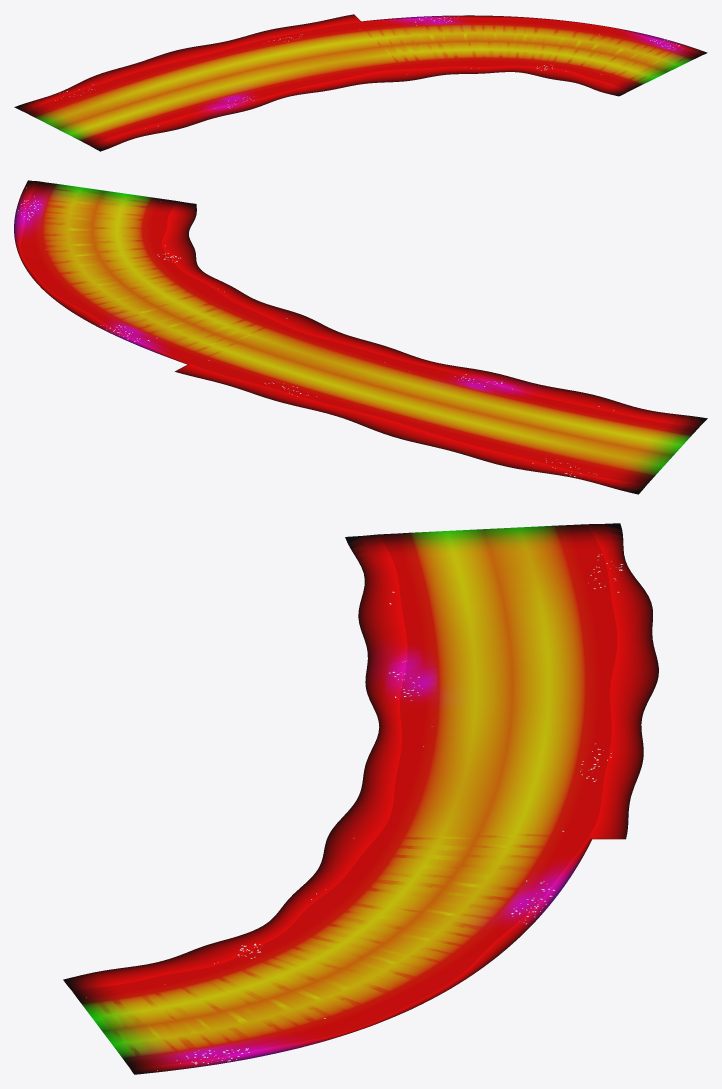
The model's file is quarry-road-approach.glb.
3 renders of one model, top to bottom at view 1: azimuth 30°, elevation 25°; view 2: azimuth 150°, elevation 25°; view 3: azimuth 270°, elevation 25°, orthographic. The views are drawn at different scales.
Visible parts, largest first — view 1: RoadLane, RoadSkirt; view 2: RoadLane, RoadSkirt; view 3: RoadLane, RoadSkirt.
Boxes of the visible parts, x1,y1,x2,y2 form: RoadLane: (25,18,702,145); RoadSkirt: (14,14,707,151); RoadLane: (20,181,699,484); RoadSkirt: (14,180,707,494); RoadLane: (72,524,617,1068); RoadSkirt: (63,523,658,1074).
Size of the model in its own units: 108 by 1.89 by 48.81.
